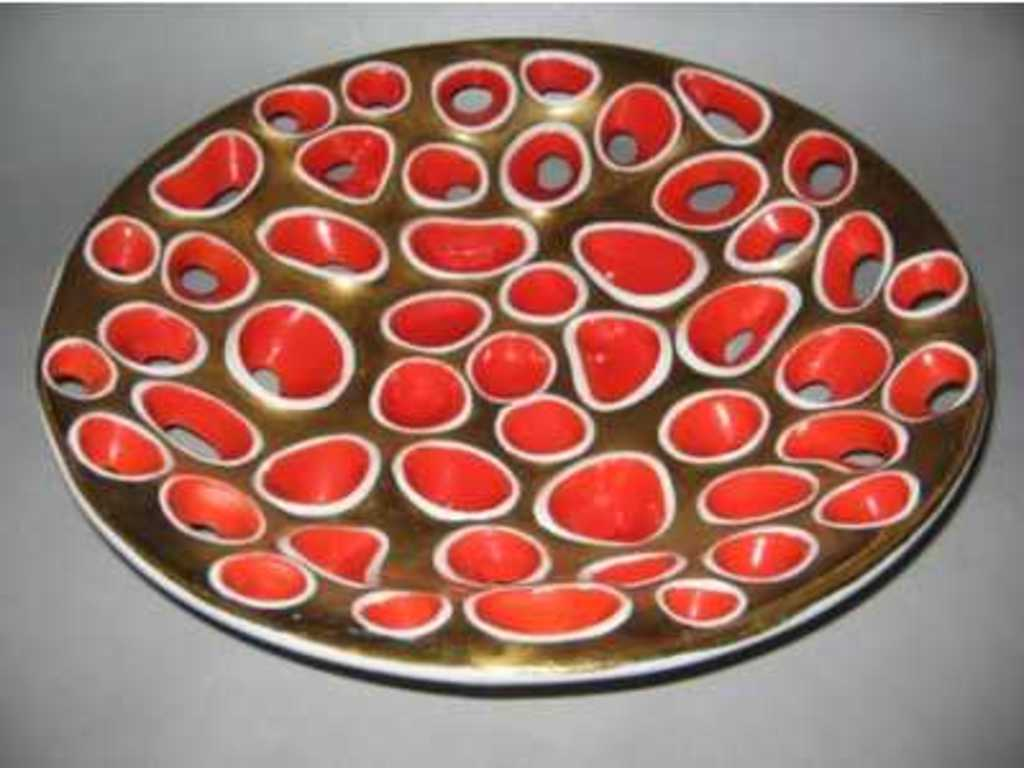plate: (79, 0, 916, 629)
